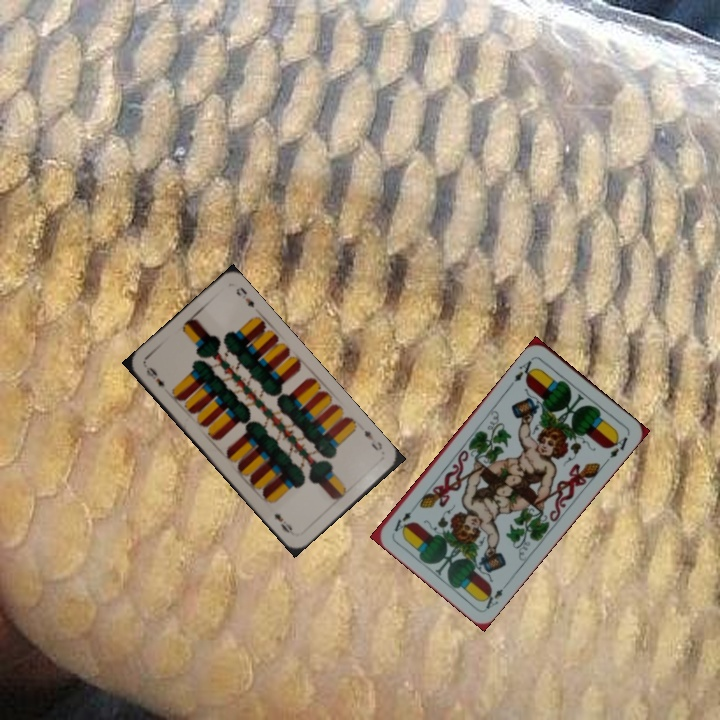E9: (360, 426, 385, 454), (142, 363, 167, 389)
EA: (506, 354, 539, 388), (478, 578, 510, 612)
